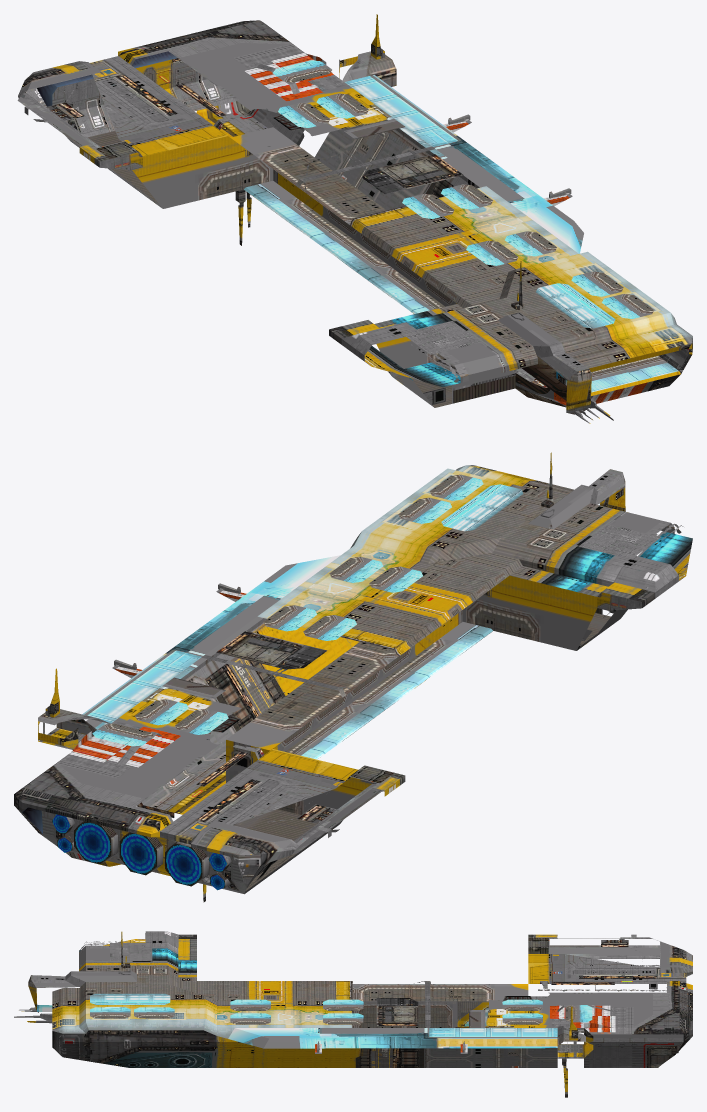
The model's file is LOD1-UVFlip.obj.
3 renders of one model, top to bottom at view 1: azimuth 30°, elevation 25°; view 2: azimuth 150°, elevation 25°; view 3: azimuth 270°, elevation 25°, orthographic. The views are drawn at different scales.
Visible parts, largest first — view 1: A_TEX, B_TEX, Badge, Hgn_Engine; view 2: A_TEX, B_TEX, Hgn_Burner, Badge; view 3: A_TEX, B_TEX, Badge.
Part boxes in pixels (box(x1,y1,x2,y2)): A_TEX: box(17, 14, 692, 423); B_TEX: box(132, 60, 691, 395); Badge: box(401, 321, 481, 354); Hgn_Engine: box(37, 51, 177, 106); A_TEX: box(14, 452, 692, 902); B_TEX: box(82, 474, 599, 814); Hgn_Burner: box(52, 814, 226, 890); Badge: box(578, 524, 660, 559); A_TEX: box(14, 931, 692, 1097); B_TEX: box(37, 984, 592, 1048); Badge: box(110, 943, 152, 960).
Size of the model in its own units: 799 by 507 by 1994.
